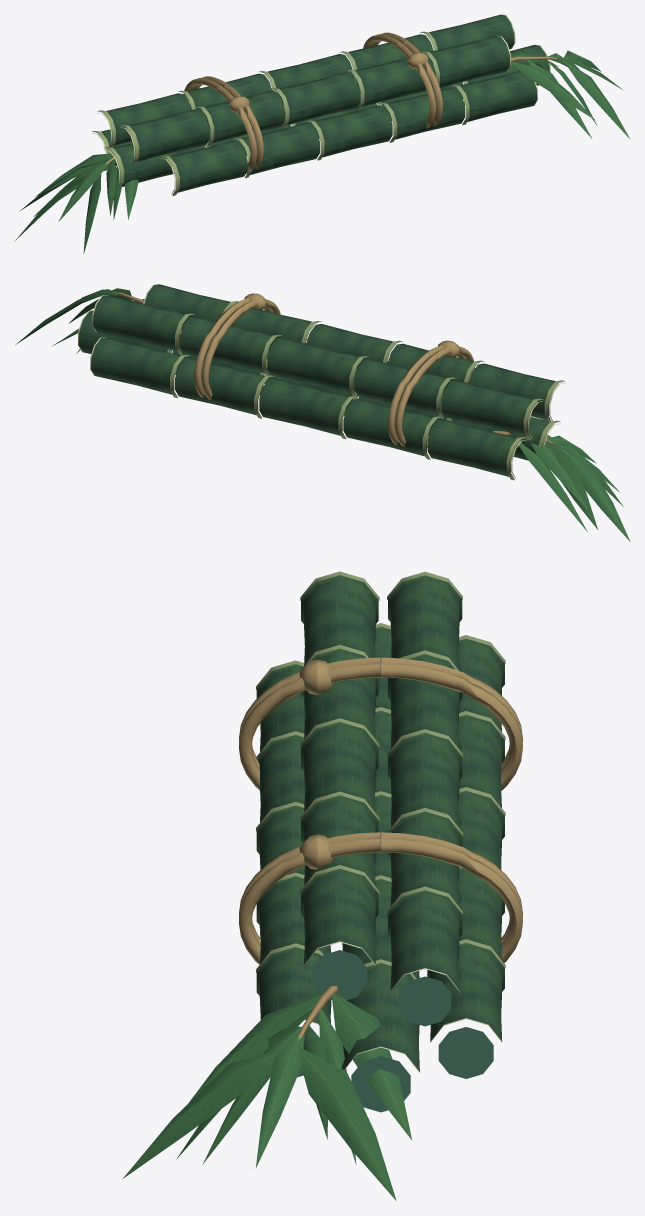
File: nyanisyarud-bamboo-bundle.glb
3 views of the same model, one above another, from view 1: azimuth 30°, elevation 25°; view 2: azimuth 150°, elevation 25°; view 3: azimuth 270°, elevation 25° (orthographic). The views are drawn at different scales.
Parts seen in each view (by area): view 1: Bamboo jade, Bamboo leaves, Old straw rope, Bamboo nodes, Warm ivory belly and cut bamboo; view 2: Bamboo jade, Bamboo leaves, Old straw rope, Bamboo nodes, Warm ivory belly and cut bamboo; view 3: Bamboo jade, Bamboo leaves, Old straw rope, Deep shell green, Bamboo nodes.
Part boxes in pixels (left/top/right/bottom): Bamboo jade: left=96, top=14, right=549, bottom=195; Bamboo leaves: left=14, top=50, right=630, bottom=253; Old straw rope: left=105, top=32, right=580, bottom=173; Bamboo nodes: left=92, top=31, right=469, bottom=195; Warm ivory belly and cut bamboo: left=92, top=14, right=550, bottom=194; Bamboo jade: left=79, top=284, right=560, bottom=479; Bamboo leaves: left=15, top=288, right=630, bottom=541; Old straw rope: left=113, top=292, right=558, bottom=448; Bamboo nodes: left=167, top=301, right=565, bottom=480; Warm ivory belly and cut bamboo: left=78, top=284, right=565, bottom=478; Bamboo jade: left=256, top=575, right=504, bottom=1071; Bamboo leaves: left=123, top=993, right=411, bottom=1200; Old straw rope: left=239, top=657, right=522, bottom=1070; Deep shell green: left=292, top=950, right=493, bottom=1112; Bamboo nodes: left=256, top=571, right=505, bottom=979.
Bounding box in the file's own units: 4.24 × 0.8274 × 1.27.
Materials: 6 (2 with a texture image).
